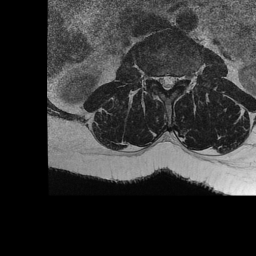CCS_stenosis: (164, 68, 170, 100)
LFS_stenosis: (177, 68, 186, 87)
LLS_normal: (170, 67, 177, 91)
RFS_stenosis: (149, 66, 157, 88)
RLS_normal: (157, 67, 164, 92)
